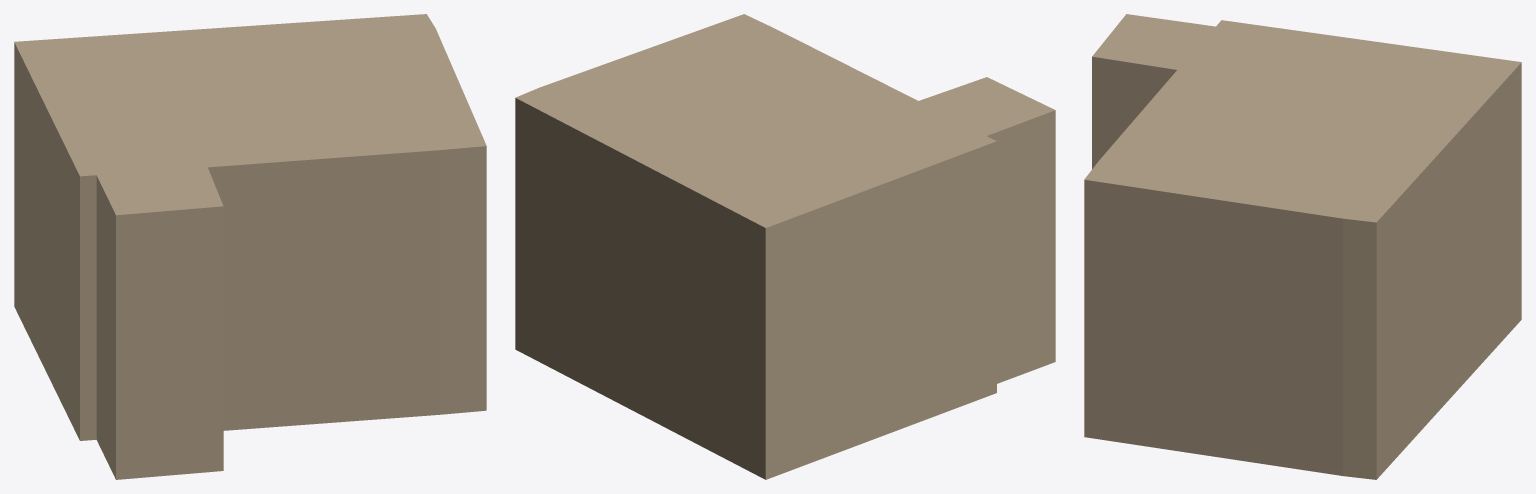
Rendered from bld_99020494.dae.
The picture shows the model from 3 angles, left to right: view 1: azimuth 30°, elevation 25°; view 2: azimuth 150°, elevation 25°; view 3: azimuth 270°, elevation 25°; orthographic projection. The views are drawn at different scales.
Visible parts, largest first — view 1: bld_99020494; view 2: bld_99020494; view 3: bld_99020494.
Part boxes in pixels (<box>): bld_99020494: <box>14,14,486,479</box>; bld_99020494: <box>515,14,1055,479</box>; bld_99020494: <box>1084,14,1521,479</box>.
Size of the model in its own units: 13.9 by 12.33 by 8.
